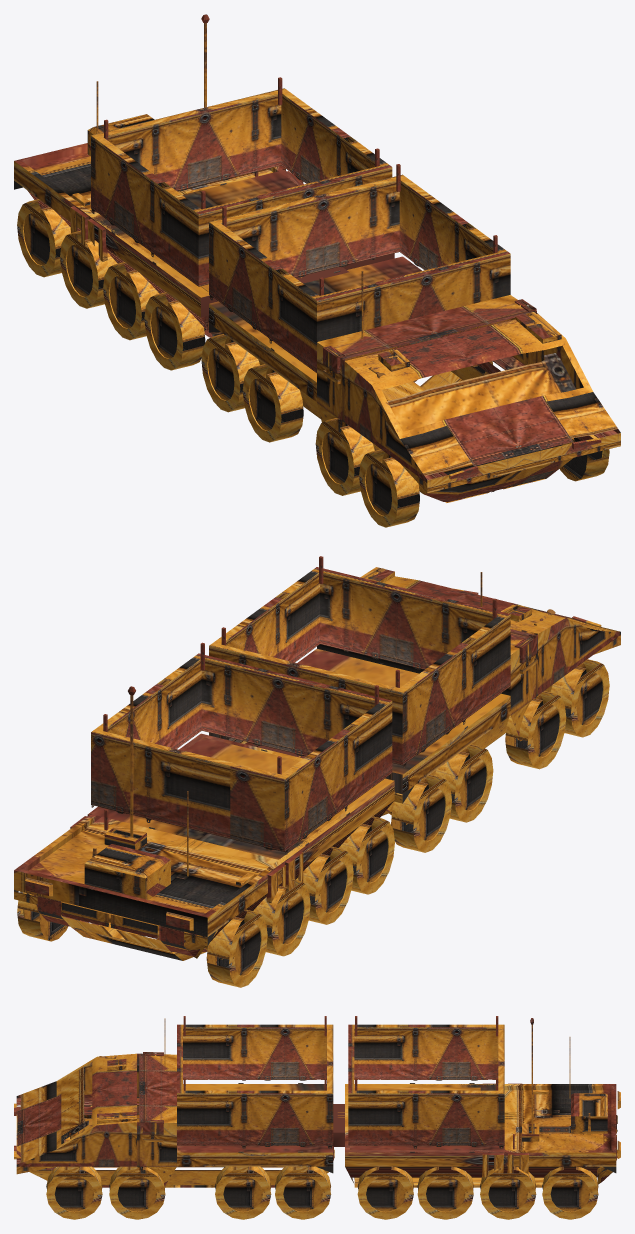
The picture shows the model from 3 angles, top to bottom: view 1: azimuth 30°, elevation 25°; view 2: azimuth 150°, elevation 25°; view 3: azimuth 270°, elevation 25°; orthographic projection. The views are drawn at different scales.
Parts seen in each view (by area): view 1: mammoth; view 2: mammoth; view 3: mammoth.
Boxes of the visible parts, box(x1,y1,x2,y2) form: mammoth: box(14, 14, 620, 527); mammoth: box(14, 556, 620, 987); mammoth: box(14, 1016, 620, 1219).
Bounding box in the file's own units: 11.48 × 39.29 × 12.63.
